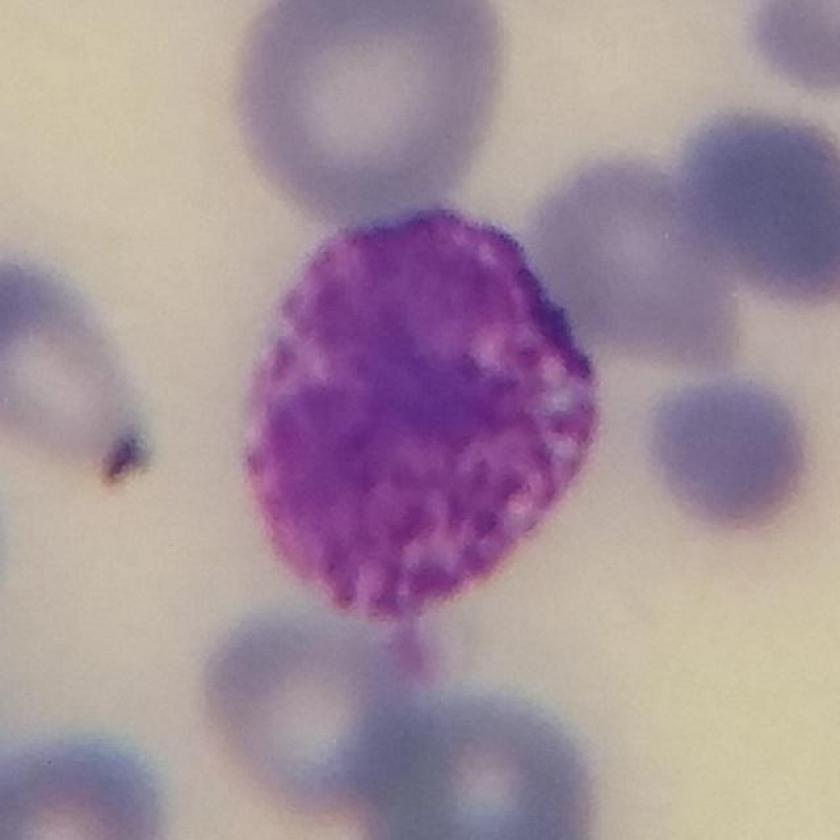basophil: (236, 189, 613, 636)
